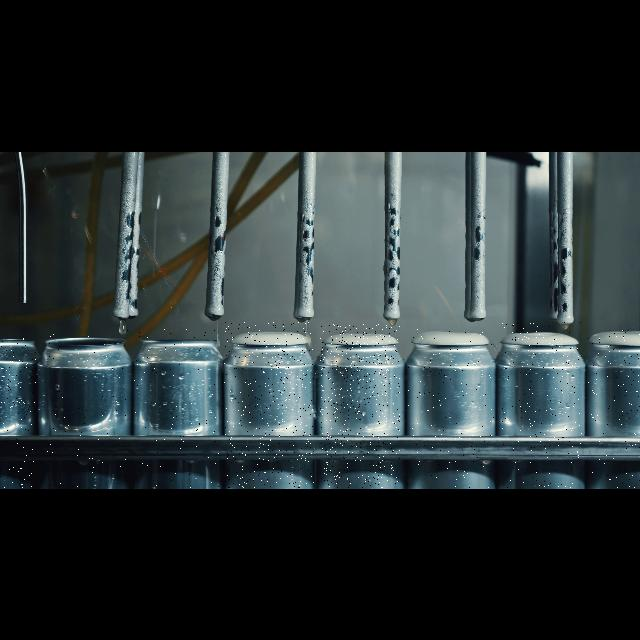empty: (134, 324, 220, 488), (41, 328, 129, 488), (0, 336, 36, 488)
full: (224, 322, 314, 488), (406, 326, 494, 488), (502, 322, 584, 488), (320, 324, 400, 488), (588, 326, 640, 488)
